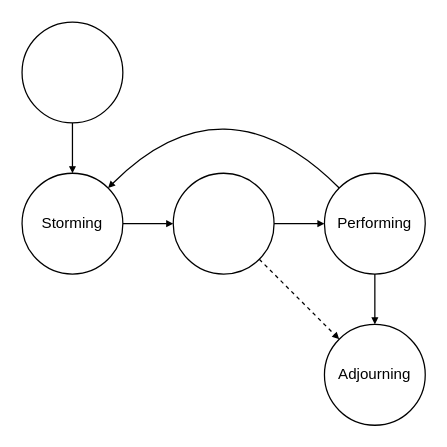
Image size: 447x447. Some labels were removed from this diagram. The shapes that lost their labels are listed below. From the top down, each one's box as (x1, y1, x2, y2) in pixels, then its label:
(21, 21, 123, 123): Forming
(172, 172, 274, 274): Norming
